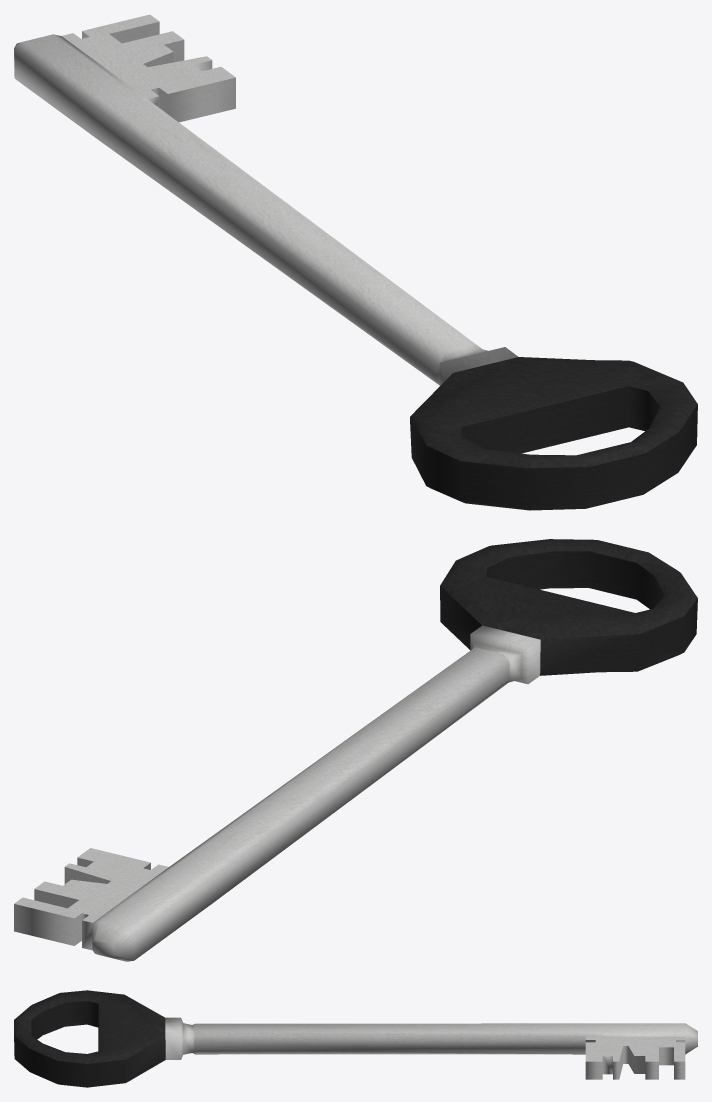
Rendered from key10.FBX.
3 renders of one model, top to bottom at view 1: azimuth 30°, elevation 25°; view 2: azimuth 150°, elevation 25°; view 3: azimuth 270°, elevation 25°, orthographic. The views are drawn at different scales.
Parts seen in each view (by area): view 1: Box001; view 2: Box001; view 3: Box001.
Boxes of the visible parts, <box> form: Box001: <box>14,14,697,510</box>; Box001: <box>14,539,697,961</box>; Box001: <box>14,990,697,1087</box>.
Size of the model in its own units: 15.81 by 2.83 by 62.79.
Materials: 2 (2 with a texture image).
